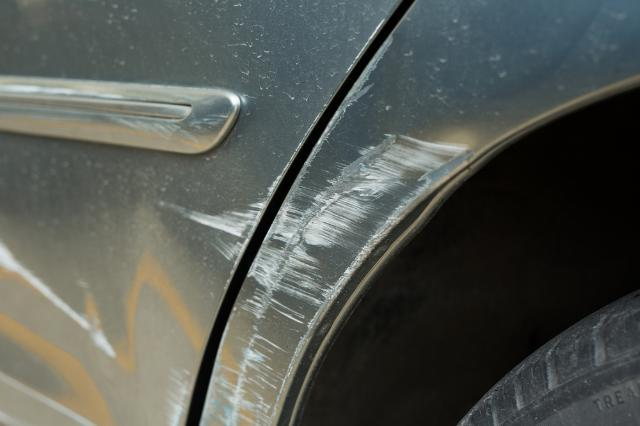scratch: (199, 134, 481, 426), (164, 174, 280, 289), (164, 365, 199, 426)
